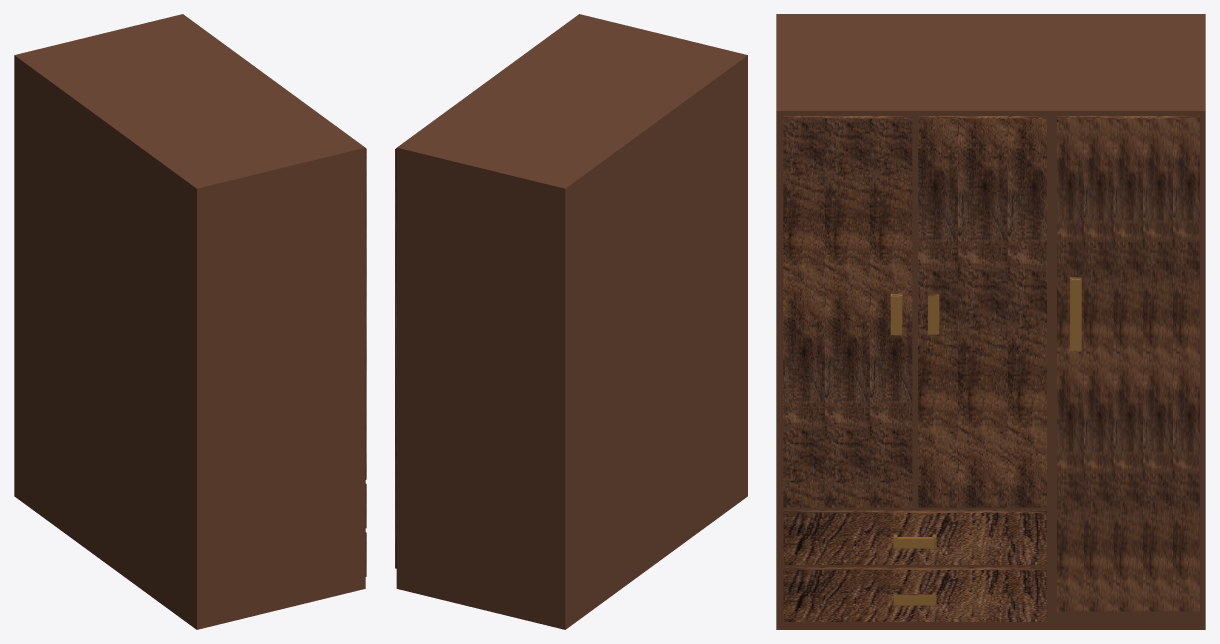
File: closet.gltf
3 views of the same model, side by side, from view 1: azimuth 30°, elevation 25°; view 2: azimuth 150°, elevation 25°; view 3: azimuth 270°, elevation 25° (orthographic). The views are drawn at different scales.
Visible parts, largest first — view 1: Mueble; view 2: Mueble; view 3: Mueble.
Boxes of the visible parts, x1,y1,x2,y2 form: Mueble: (14,14,366,629); Mueble: (395,14,747,629); Mueble: (776,14,1205,629).
Bounding box in the file's own units: 0.8571 × 2 × 1.5.
4 materials, 3 textured.
